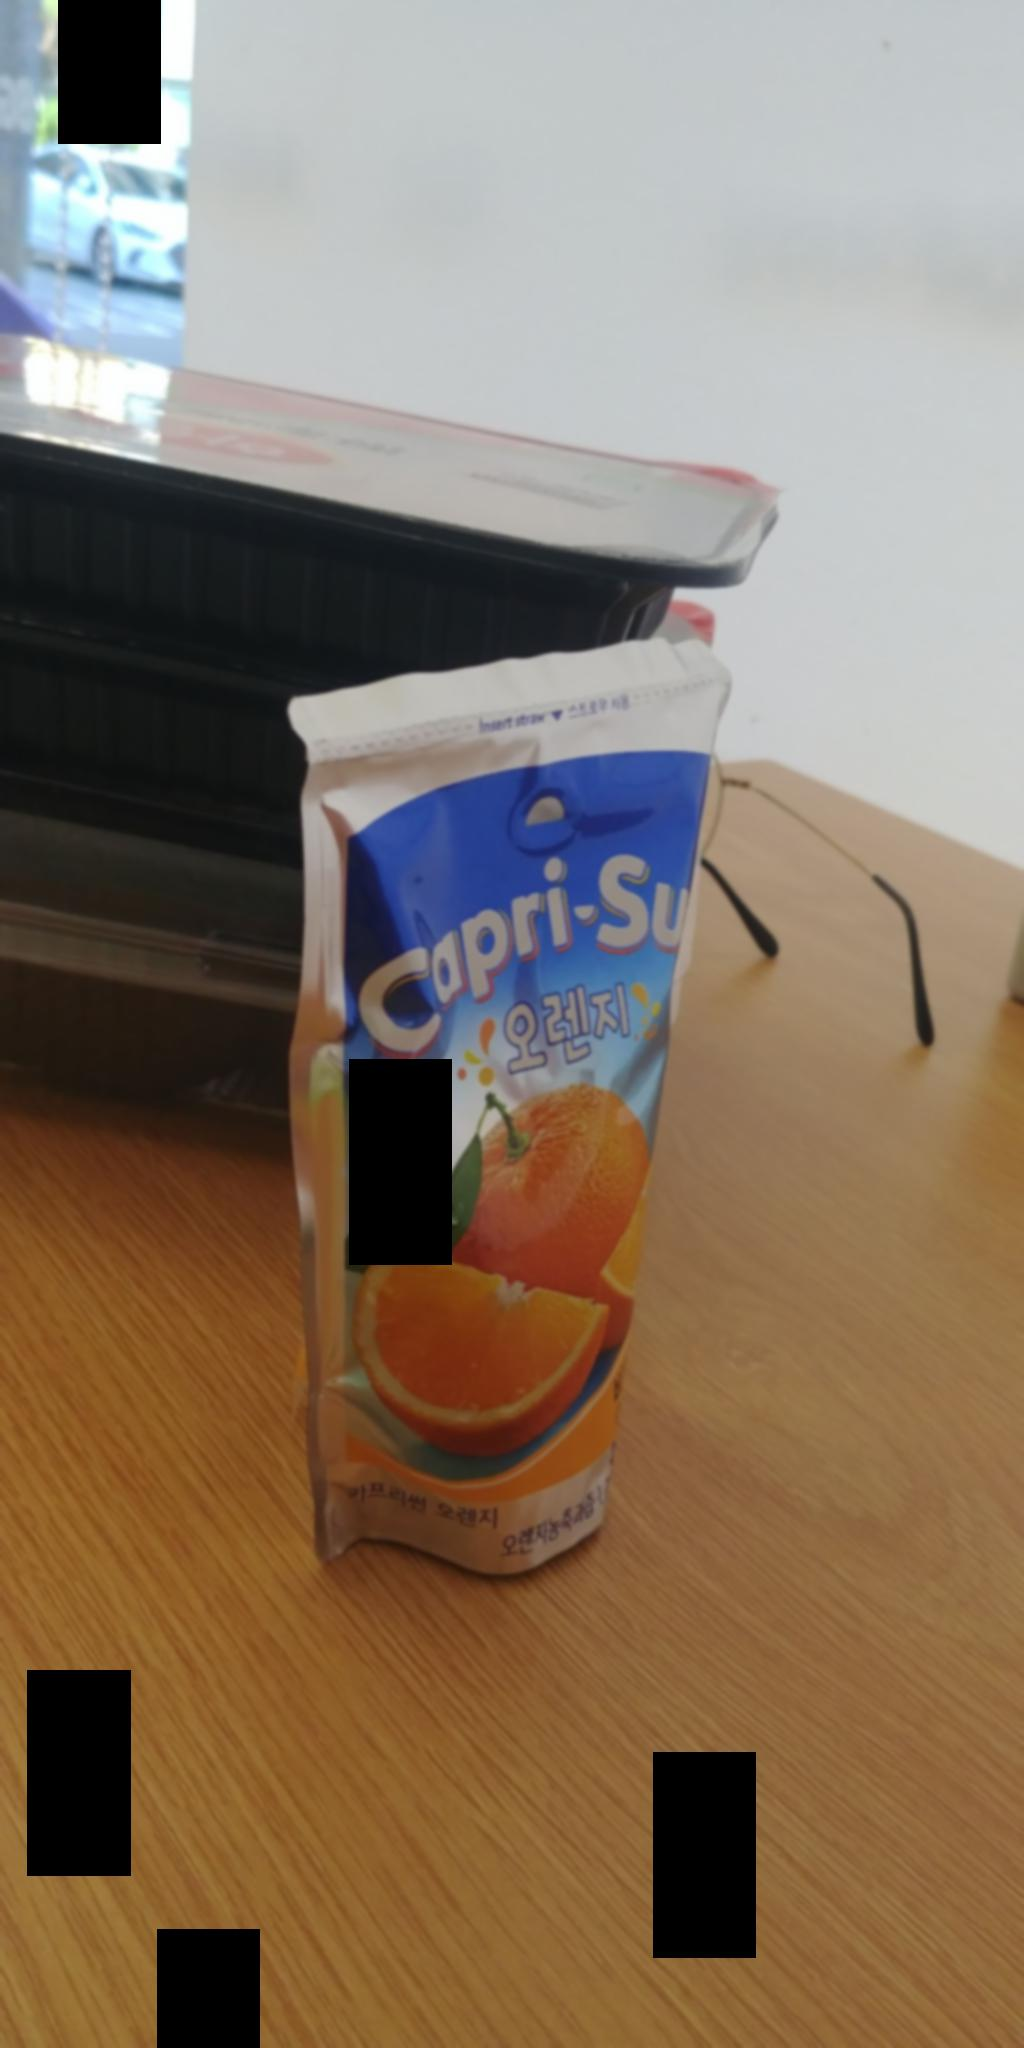cafrisun: (257, 628, 763, 1612)
